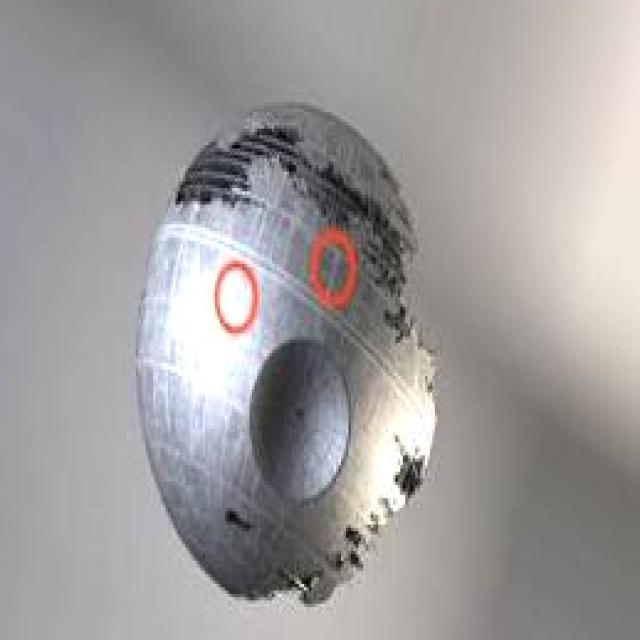deathstar: (134, 101, 438, 610)
